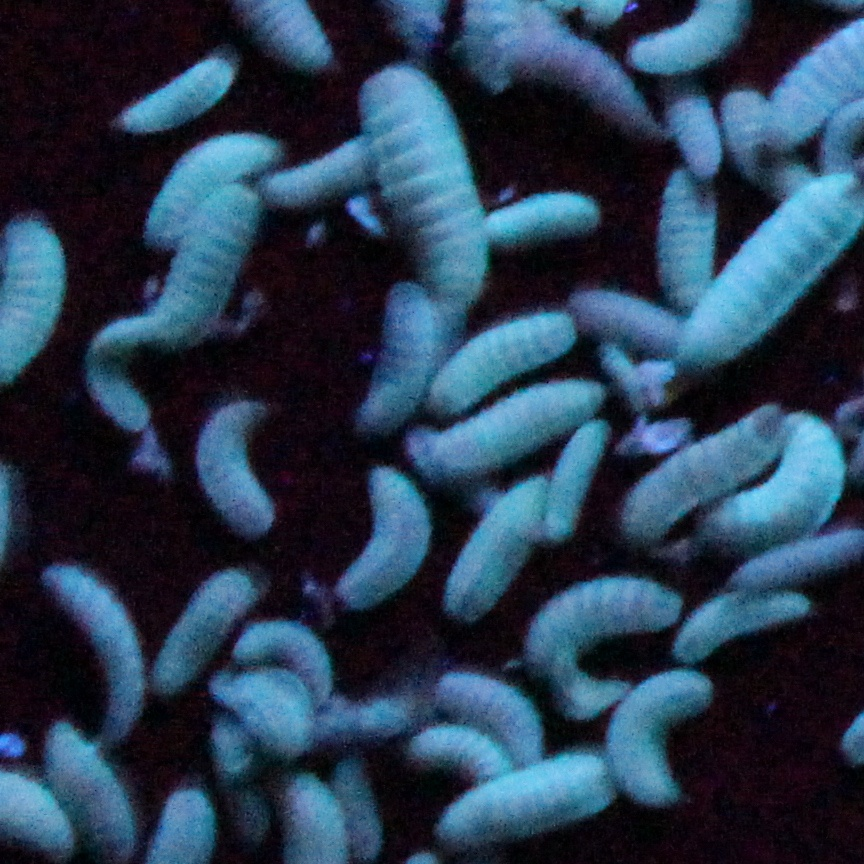larve: (359, 69, 490, 303), (109, 178, 268, 369), (627, 401, 779, 553), (43, 548, 154, 751), (706, 414, 843, 551), (404, 380, 606, 471), (529, 576, 697, 682), (602, 673, 727, 807), (424, 307, 579, 414), (140, 564, 265, 692), (38, 723, 149, 862), (438, 753, 602, 846), (131, 142, 288, 232), (345, 457, 431, 610), (197, 396, 284, 546), (447, 485, 549, 612), (365, 280, 445, 423), (668, 592, 824, 662), (443, 671, 552, 769), (545, 419, 620, 551), (106, 57, 238, 130), (227, 623, 345, 701), (220, 669, 313, 753), (668, 162, 720, 294), (477, 192, 606, 244), (663, 92, 731, 185), (86, 355, 156, 439), (577, 292, 681, 348), (404, 721, 506, 771), (718, 85, 779, 164)
